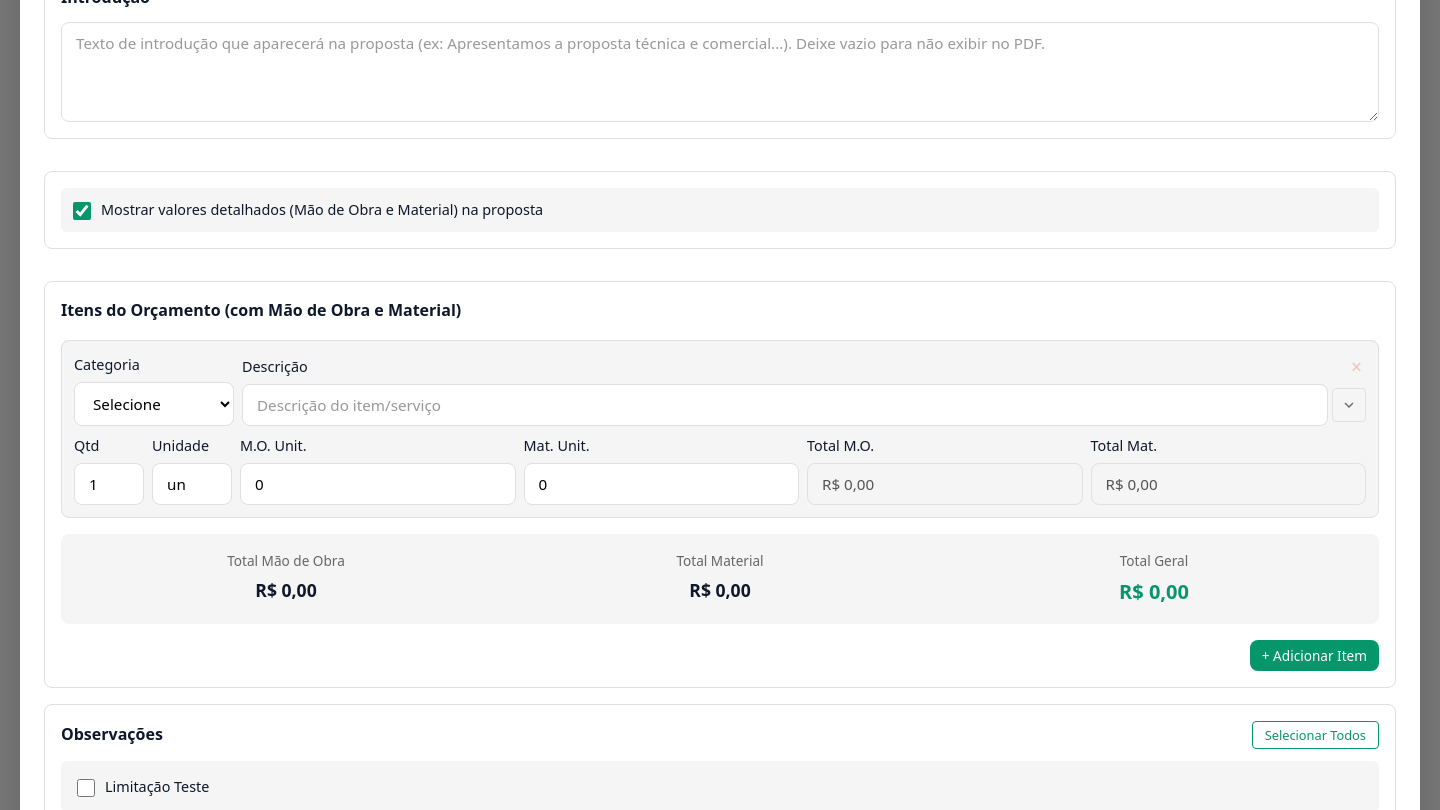
Test: OrcamentoModal › deve calcular total automaticamente
(page scrolled)
Type "Teste" into the field with placeholder "Descrição do item/serviço" at (785, 405), box [242, 384, 1328, 426]
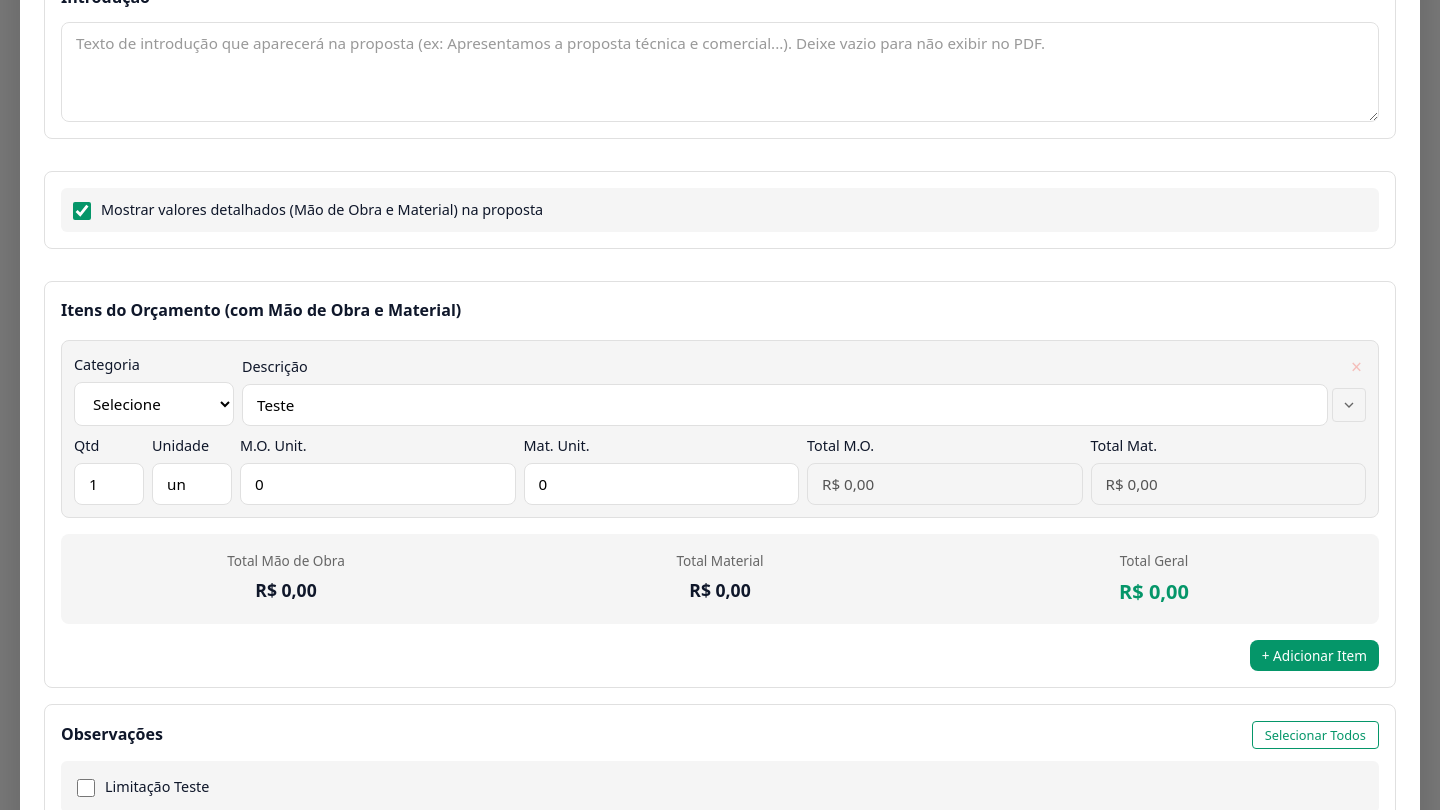
Replace the text in the number field below "Qtd" with "2" at (109, 484), box [74, 463, 144, 505]
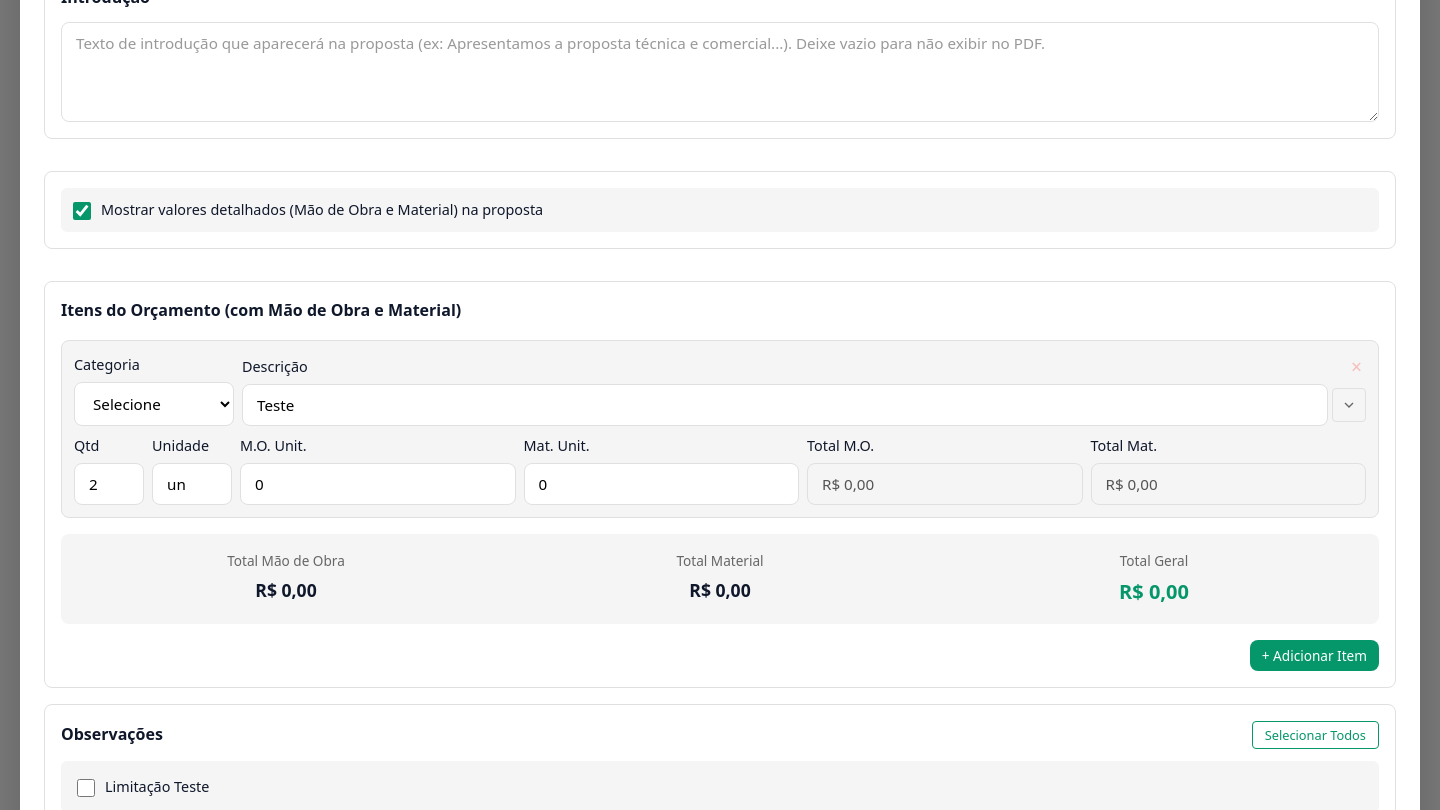
Replace the text in the number field below "M.O. Unit." with "50" at (378, 484), box [240, 463, 516, 505]
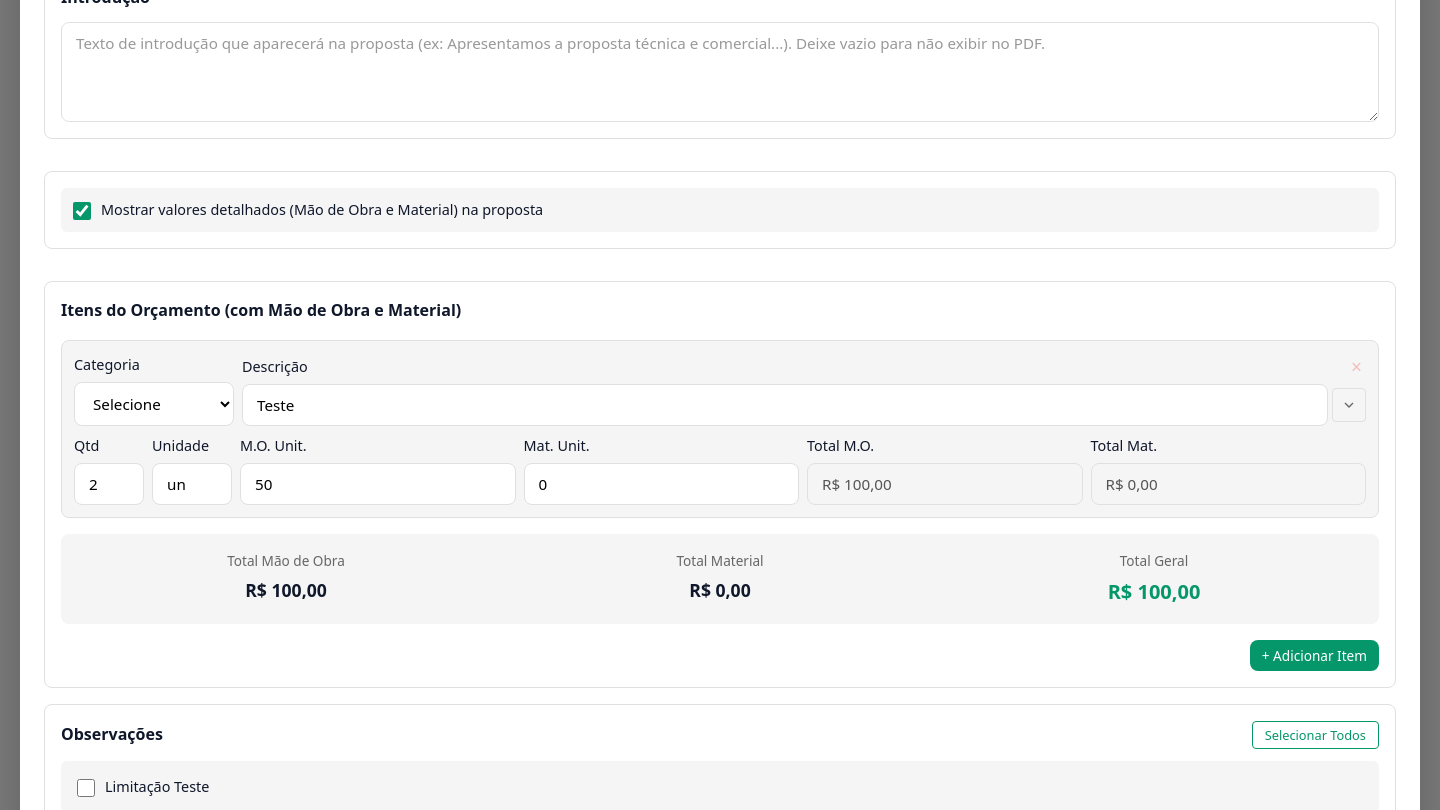
Replace the text in the number field below "Mat. Unit." with "50" at (661, 484), box [524, 463, 799, 505]
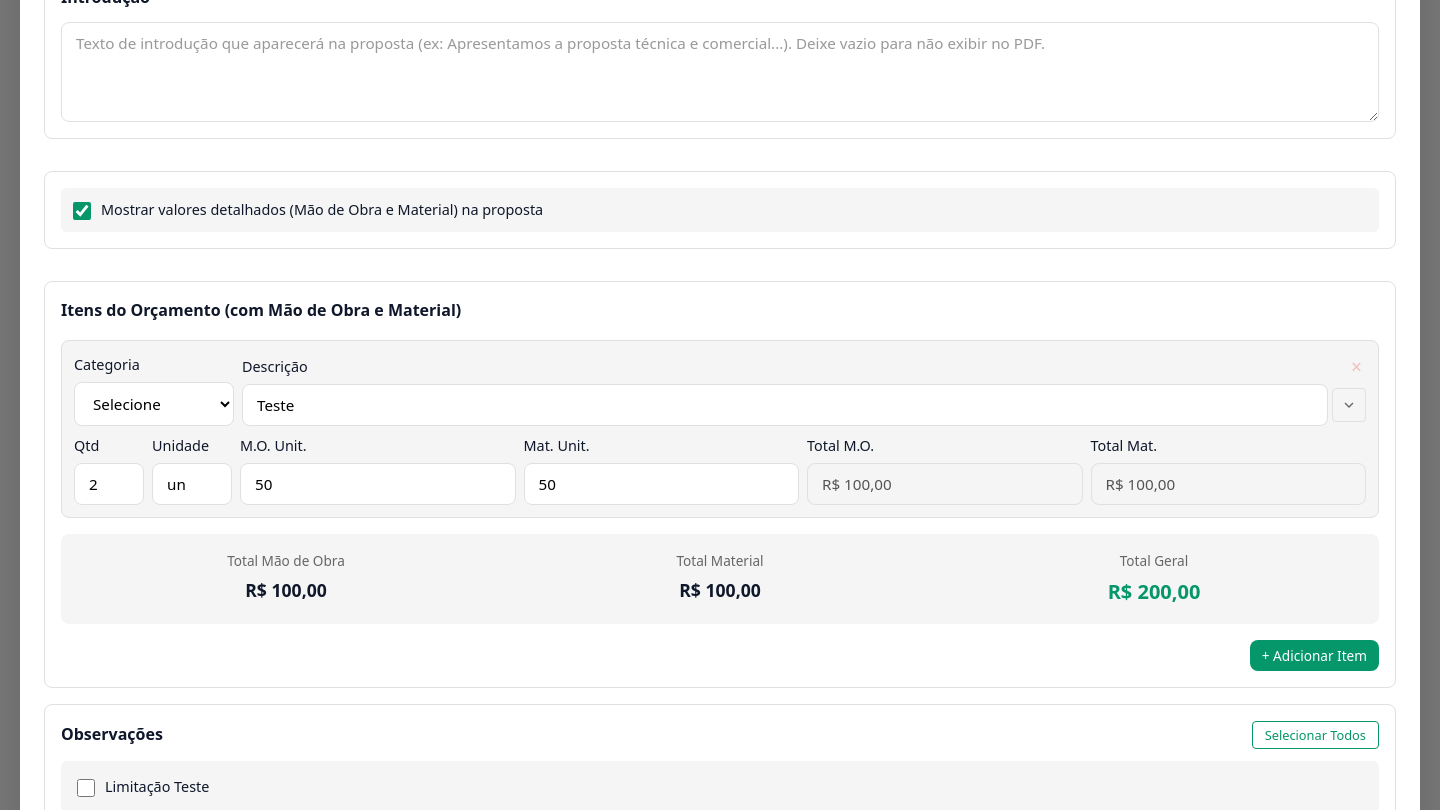
Now the text "R$ 200,00" is shown, box [1108, 578, 1200, 605]
